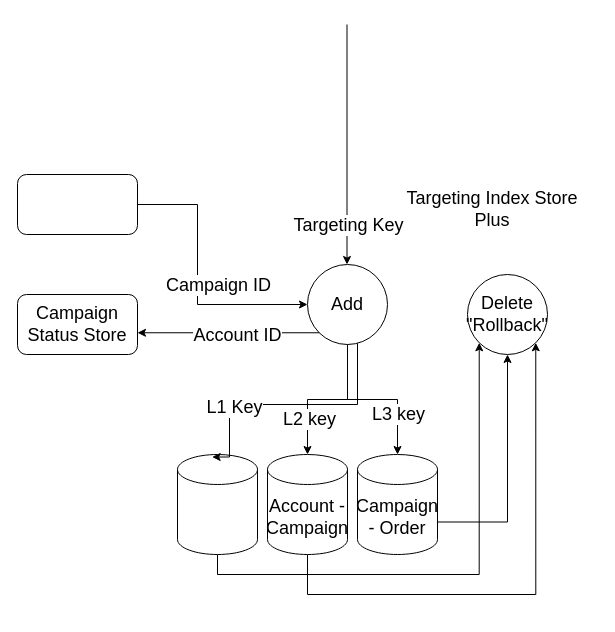
Some shapes in this 615 by 632 pixel diagram are drawn without their labels. The shapes that lost their labels are listed below. From the top down, each one's centre as x and y in pixels, then its label:
At pixel 77 204: "Order Info Store".
At pixel 217 504: "Targeting key-Account".
